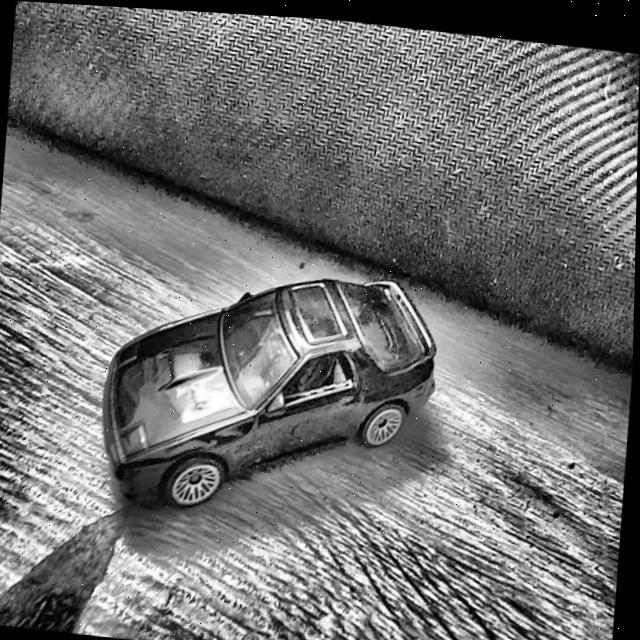car: (98, 247, 445, 532)
